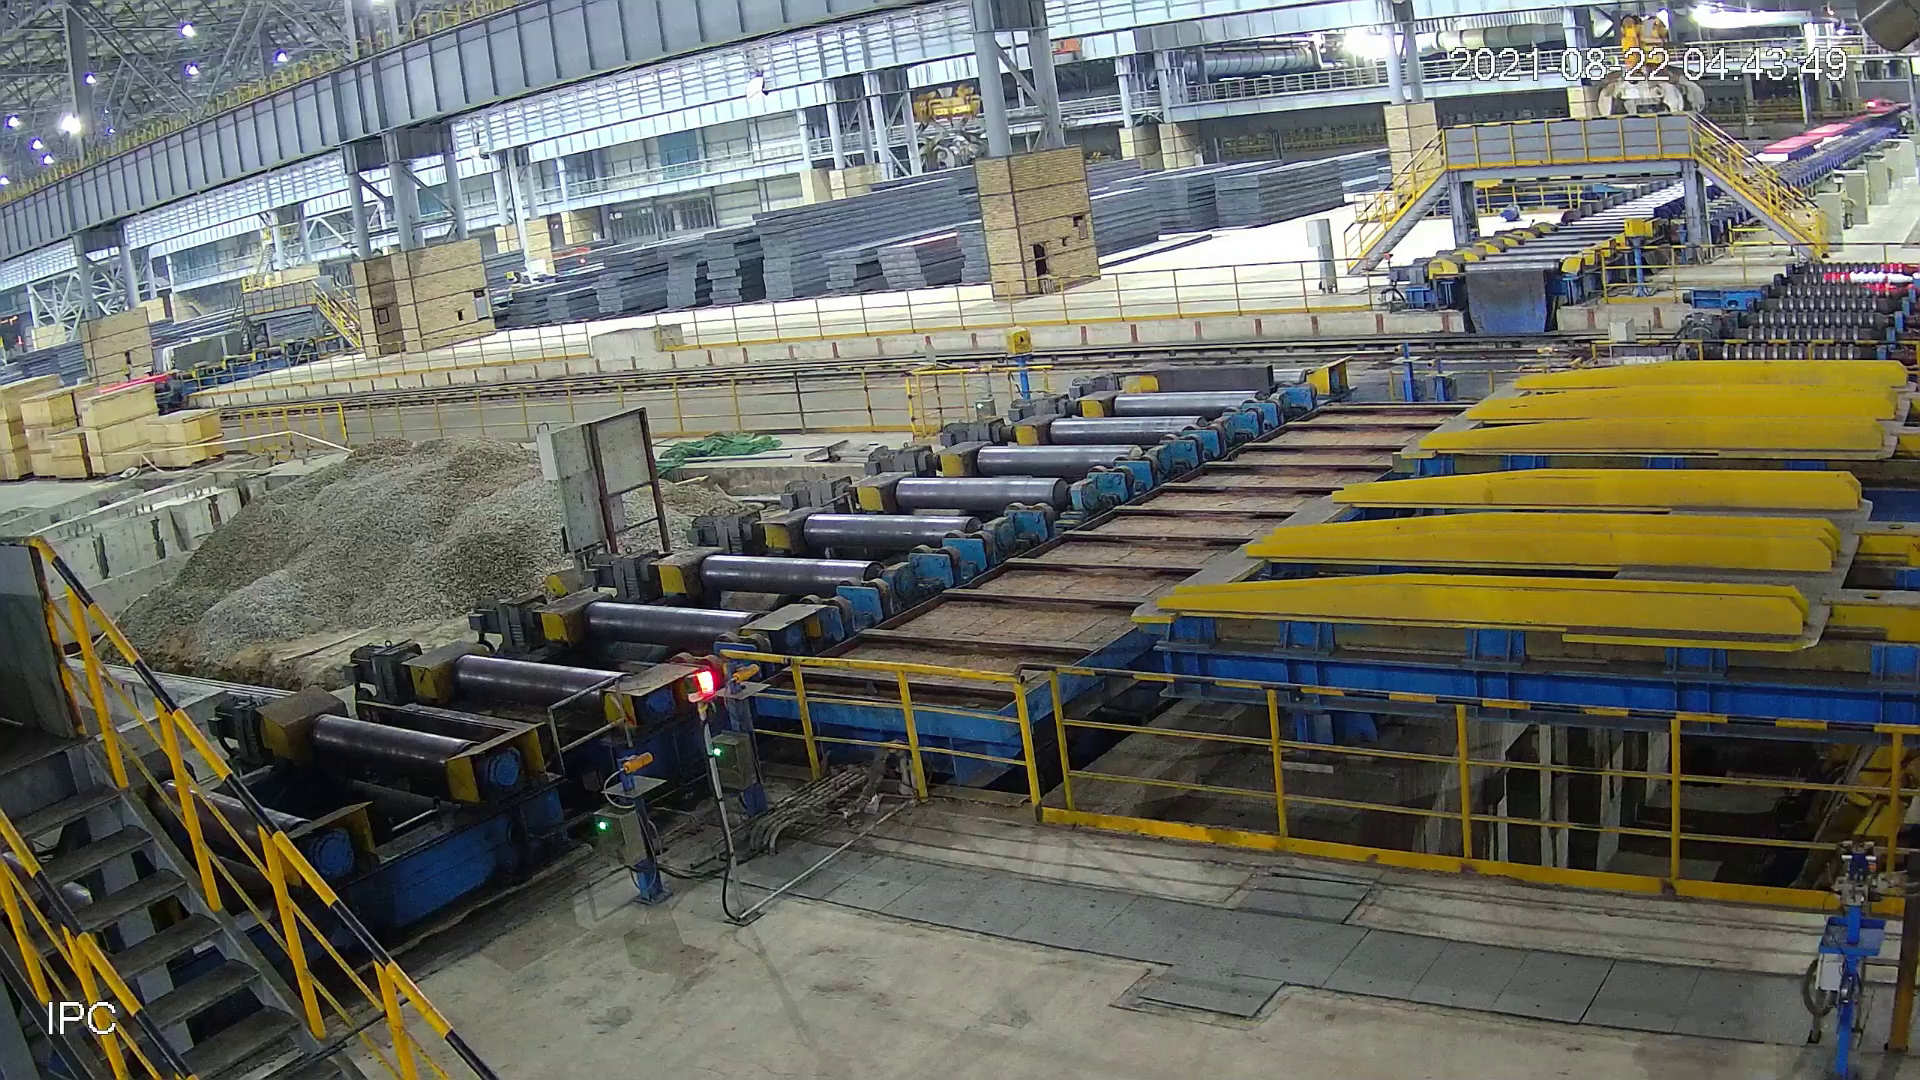crane: (1593, 8, 1708, 120)
